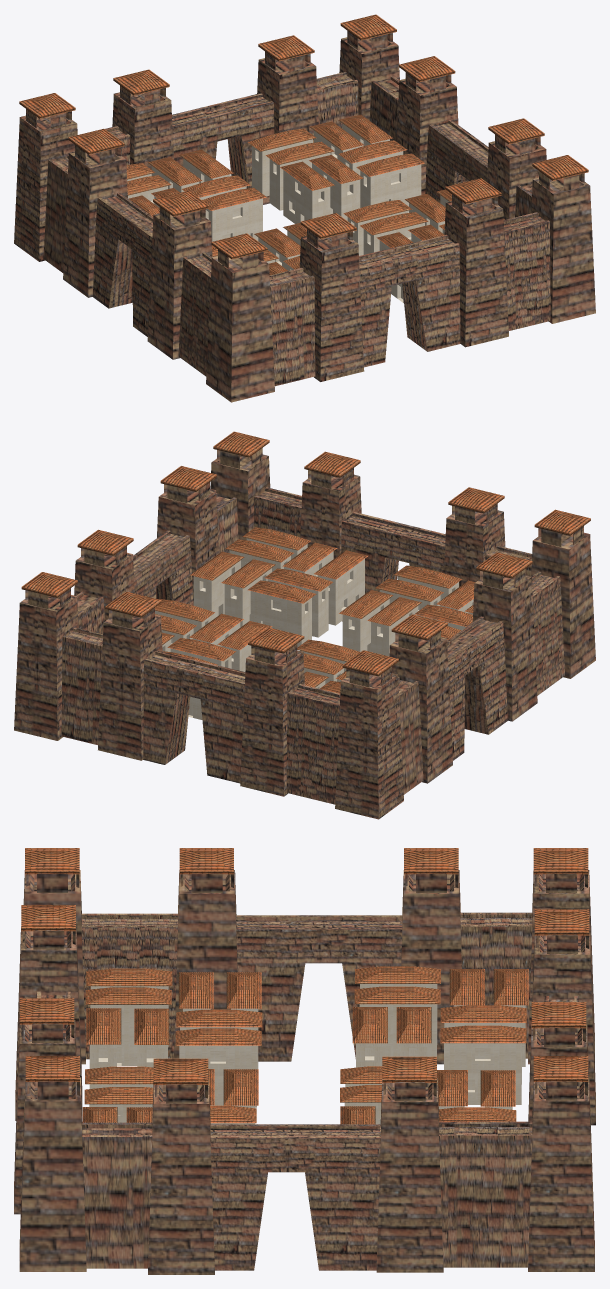
Rendered from RomanCity.obj.
The picture shows the model from 3 angles, top to bottom: view 1: azimuth 30°, elevation 25°; view 2: azimuth 150°, elevation 25°; view 3: azimuth 270°, elevation 25°; orthographic projection. The views are drawn at different scales.
Visible parts, largest first — view 1: Cube.009_Cube.050, Cube.020_Cube.062, Cube.042_Cube.097, Cube.045_Cube.100, Cube.032_Cube.114, Cube.005_Cube.047, Cube.002_Cube.085, Cube.008_Cube.088, Cube.024_Cube.110, Cube.012_Cube.053, Cube.023_Cube.065, Cube.019_Cube.061 (+46 smaller); view 2: Cube.012_Cube.053, Cube.024_Cube.110, Cube.025_Cube.111, Cube.010_Cube.089, Cube.015_Cube.092, Cube.005_Cube.047, Cube.020_Cube.062, Cube.017_Cube.059, Cube.002_Cube.085, Cube.008_Cube.088, Cube.009_Cube.050, Cube.014_Cube.055 (+50 smaller); view 3: Cube.006_Cube.007, Cube.001, Cube.005_Cube.047, Cube.032_Cube.114, Cube.025_Cube.111, Cube.041_Cube.096, Cube.021_Cube.093, Cube.022_Cube.064, Cube.002_Cube.085, Cube.008_Cube.088, Cube.018_Cube.060, Cube.010_Cube.089 (+51 smaller).
Part boxes in pixels (left/top/right/bottom): Cube.009_Cube.050: left=359, top=234, right=460, bottom=367; Cube.020_Cube.062: left=206, top=249, right=274, bottom=402; Cube.042_Cube.097: left=444, top=194, right=508, bottom=347; Cube.045_Cube.100: left=299, top=229, right=364, bottom=381; Cube.032_Cube.114: left=531, top=171, right=595, bottom=323; Cube.005_Cube.047: left=93, top=192, right=153, bottom=336; Cube.002_Cube.085: left=147, top=207, right=212, bottom=359; Cube.008_Cube.088: left=63, top=145, right=127, bottom=297; Cube.024_Cube.110: left=14, top=109, right=77, bottom=261; Cube.012_Cube.053: left=172, top=93, right=274, bottom=204; Cube.023_Cube.065: left=503, top=212, right=550, bottom=330; Cube.019_Cube.061: left=269, top=267, right=315, bottom=386; Cube.012_Cube.053: left=143, top=650, right=245, bottom=783; Cube.024_Cube.110: left=335, top=666, right=403, bottom=819; Cube.025_Cube.111: left=14, top=588, right=78, bottom=740; Cube.010_Cube.089: left=240, top=644, right=304, bottom=796; Cube.015_Cube.092: left=98, top=608, right=162, bottom=760; Cube.005_Cube.047: left=447, top=616, right=507, bottom=760; Cube.020_Cube.062: left=531, top=526, right=595, bottom=678; Cube.017_Cube.059: left=286, top=684, right=340, bottom=804; Cube.002_Cube.085: left=472, top=569, right=537, bottom=721; Cube.008_Cube.088: left=389, top=631, right=452, bottom=783; Cube.009_Cube.050: left=341, top=512, right=445, bottom=621; Cube.014_Cube.055: left=61, top=627, right=102, bottom=744; Cube.006_Cube.007: left=210, top=1124, right=380, bottom=1270; Cube.001: left=439, top=1121, right=532, bottom=1267; Cube.005_Cube.047: left=236, top=915, right=402, bottom=1061; Cube.032_Cube.114: left=19, top=1077, right=86, bottom=1271; Cube.025_Cube.111: left=528, top=1077, right=594, bottom=1271; Cube.041_Cube.096: left=148, top=1080, right=214, bottom=1274; Cube.021_Cube.093: left=376, top=1078, right=443, bottom=1272; Cube.022_Cube.064: left=82, top=1122, right=152, bottom=1268; Cube.002_Cube.085: left=173, top=870, right=237, bottom=1058; Cube.008_Cube.088: left=401, top=870, right=461, bottom=1064; Cube.018_Cube.060: left=81, top=913, right=177, bottom=1059; Cube.010_Cube.089: left=529, top=931, right=595, bottom=1125.
Size of the model in its own units: 0.8381 by 0.3173 by 0.8629.
Materials: 3 (3 with a texture image).
